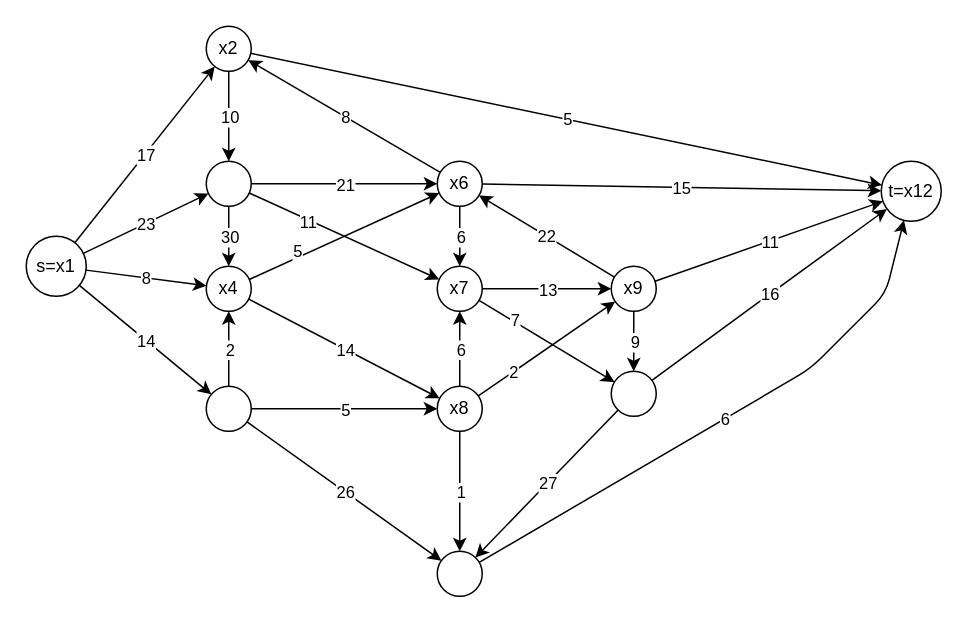
This 968x623 diagram has some shape labels left out. The shapes that lost their labels are listed below. From the top down, each one's centre as x and y in pixels, then its label:
At (228,183): "x3".
At (228,408): "x5".
At (633,393): "x11".
At (459,573): "x10".
